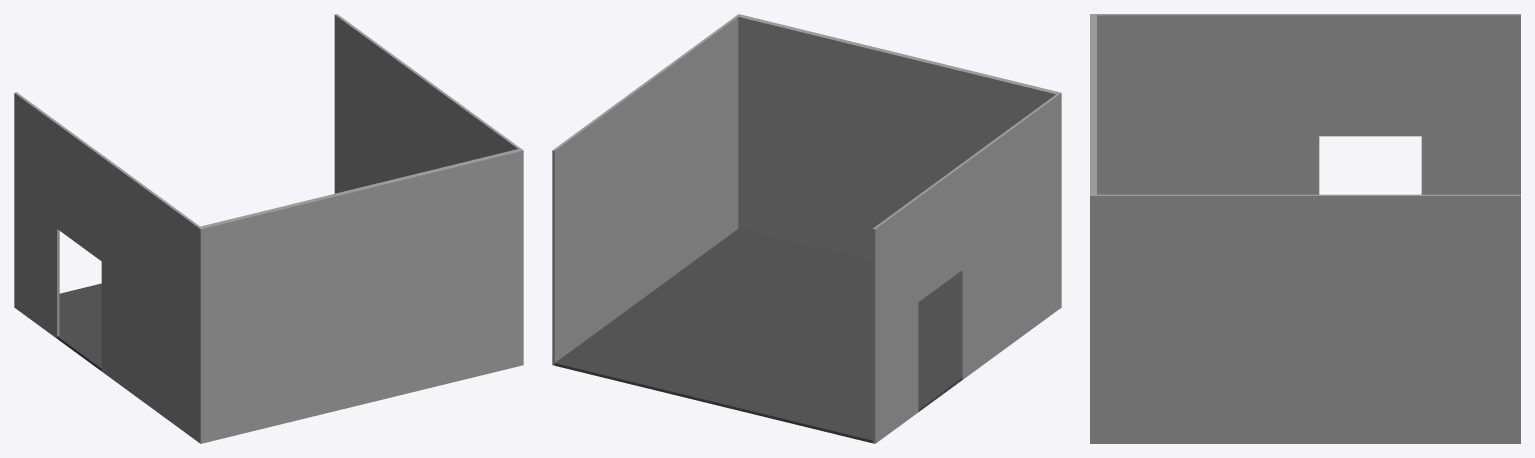
The model's file is 4x2 second-5.obj.
The picture shows the model from 3 angles, left to right: view 1: azimuth 30°, elevation 25°; view 2: azimuth 150°, elevation 25°; view 3: azimuth 270°, elevation 25°; orthographic projection. The views are drawn at different scales.
Visible parts, largest first — view 1: 4x2 second-5; view 2: 4x2 second-5; view 3: 4x2 second-5.
Part boxes in pixels (x1,y1,x2,y2): 4x2 second-5: (14, 14, 523, 443); 4x2 second-5: (552, 14, 1061, 443); 4x2 second-5: (1090, 14, 1520, 443).
Size of the model in its own units: 126 by 80 by 126.
Materials: 1 (1 with a texture image).
